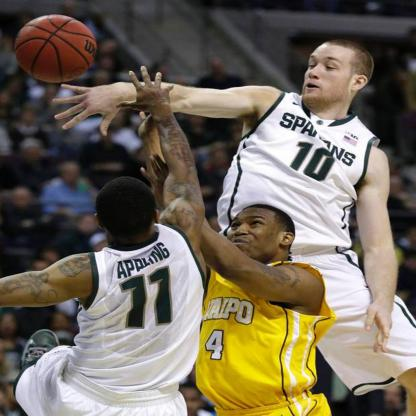face: (303, 43, 356, 100), (227, 206, 280, 261)
